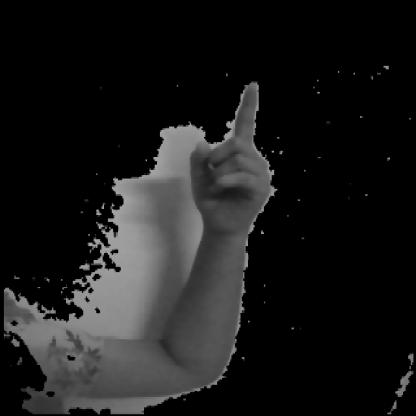one: (154, 73, 274, 397)
